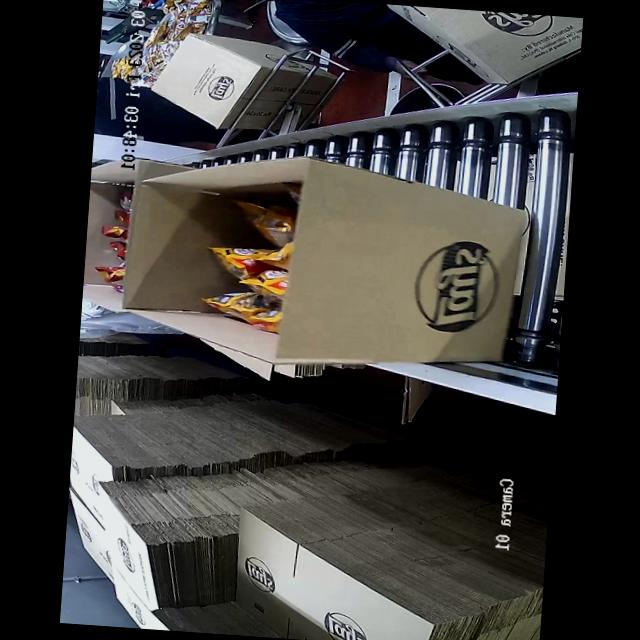cheese: (188, 175, 302, 336)
